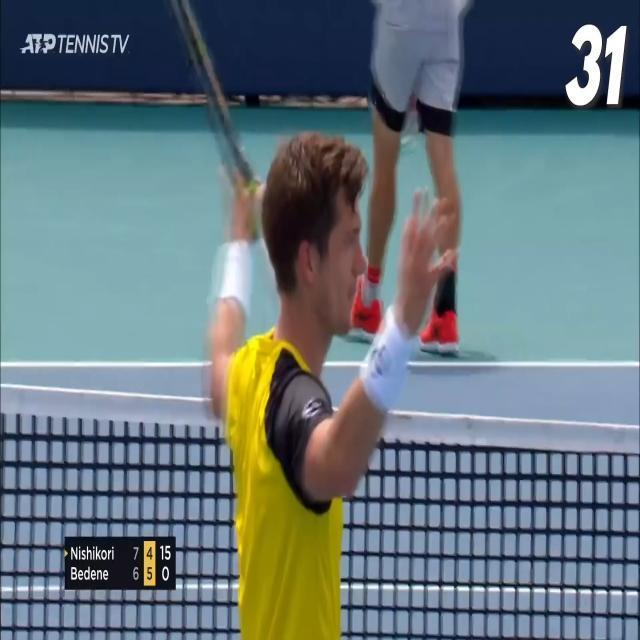player: (170, 0, 455, 623)
